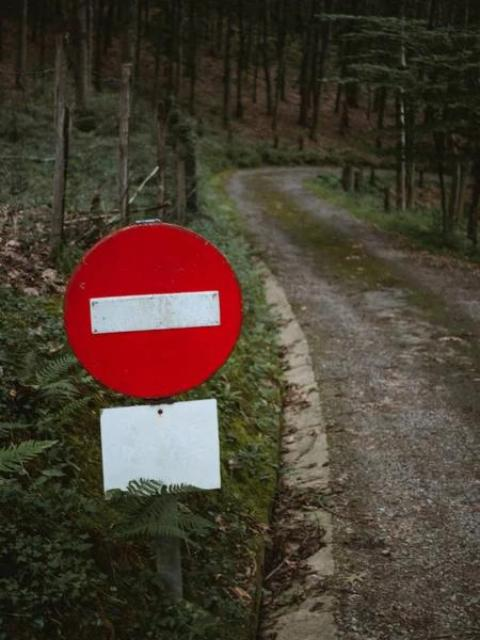B2: (61, 218, 244, 400)
